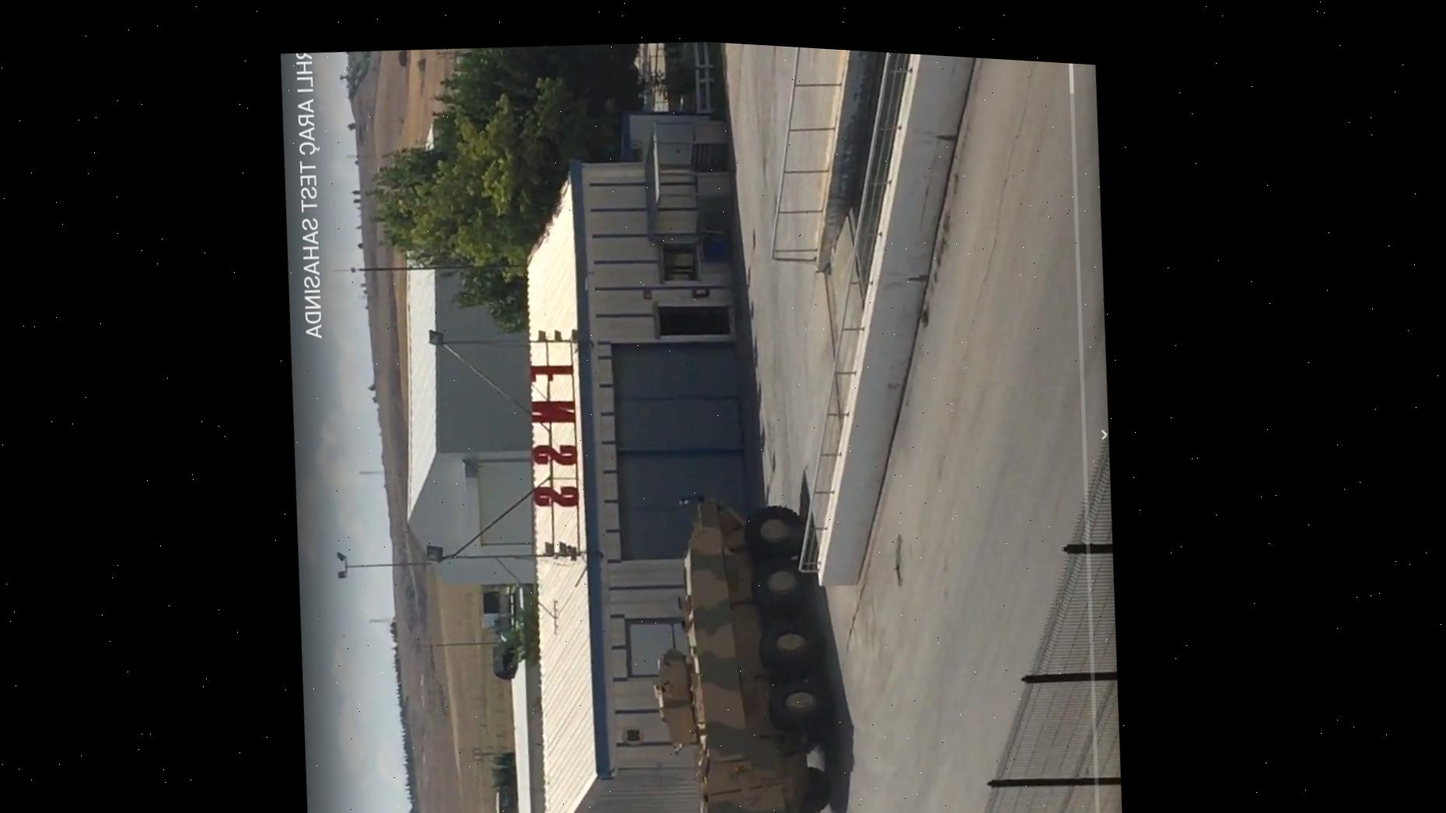armored_car: (624, 481, 859, 813)
